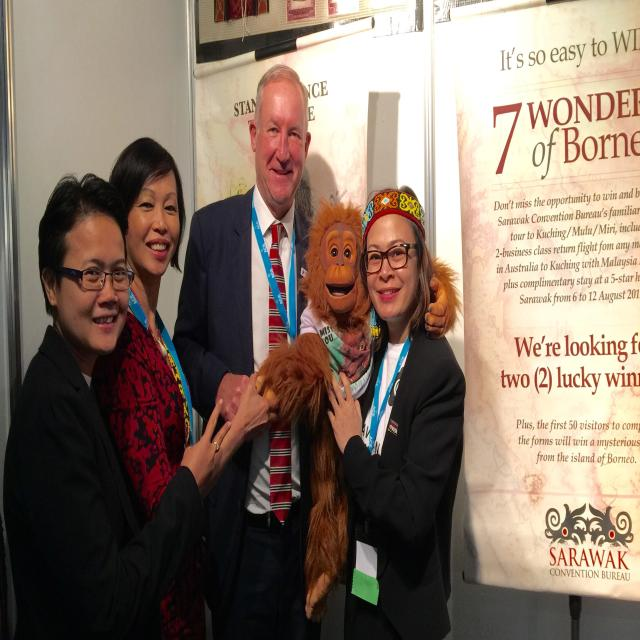body: (0, 178, 233, 639), (105, 137, 277, 639), (172, 65, 318, 640), (328, 180, 471, 640)
